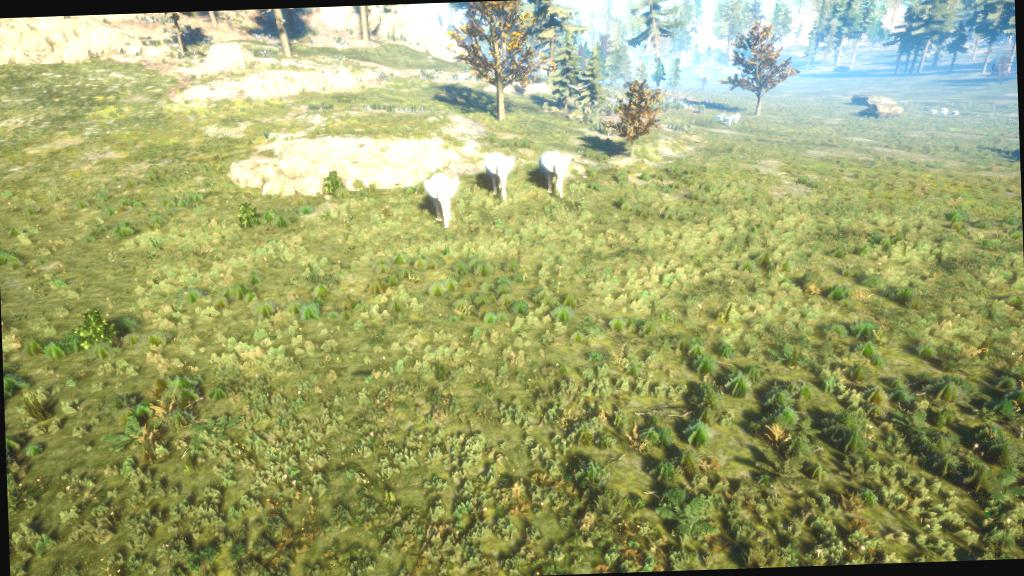elephant: (410, 154, 464, 240), (536, 130, 580, 210), (477, 143, 517, 214)
